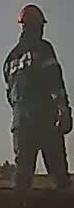gloves: (55, 100, 72, 135)
helmet: (17, 4, 49, 26)
vest: (6, 40, 62, 139)
